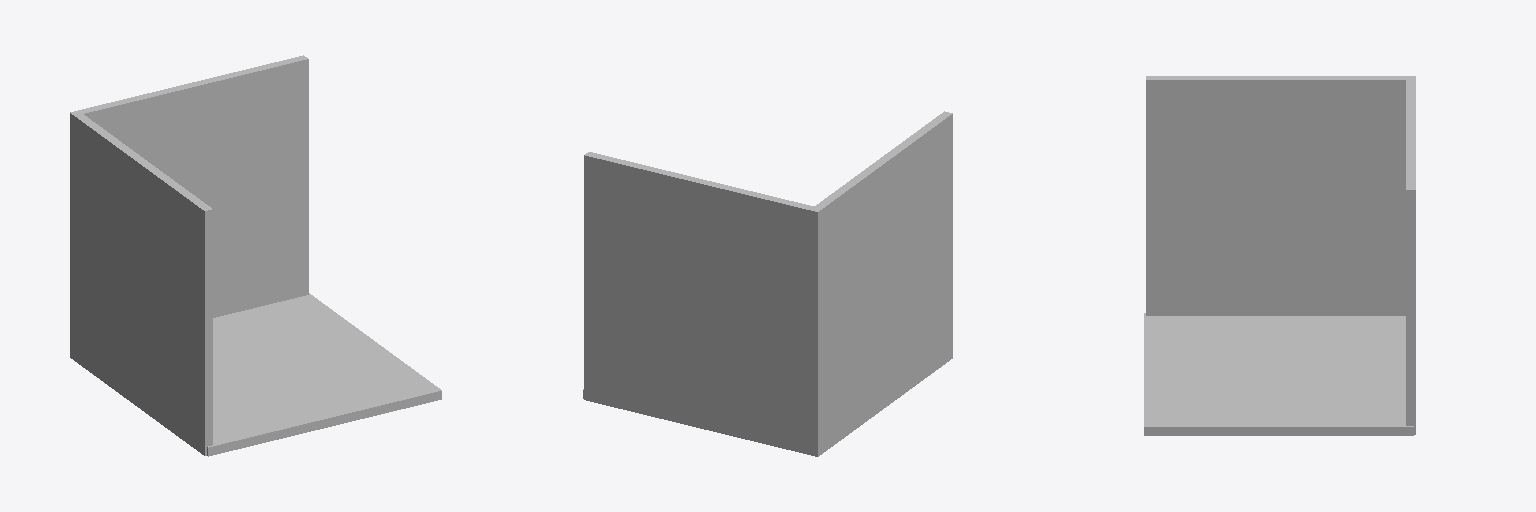
Rendered from room.obj.
3 views of the same model, side by side, from view 1: azimuth 30°, elevation 25°; view 2: azimuth 150°, elevation 25°; view 3: azimuth 270°, elevation 25° (orthographic).
Visible parts, largest first — view 1: Cube.002, Cube.001, Cube; view 2: Cube.001, Cube.002; view 3: Cube.002, Cube, Cube.001.
Part boxes in pixels (x1,y1,x2,y2): Cube.002: (70,111,212,455); Cube.001: (70,55,308,360); Cube: (207,293,441,456); Cube.001: (584,152,822,456); Cube.002: (809,111,952,456); Cube.002: (1146,76,1415,315); Cube: (1144,313,1413,435); Cube.001: (1406,80,1415,434).
Bounding box in the file's own units: 2.02 × 2 × 2.02.